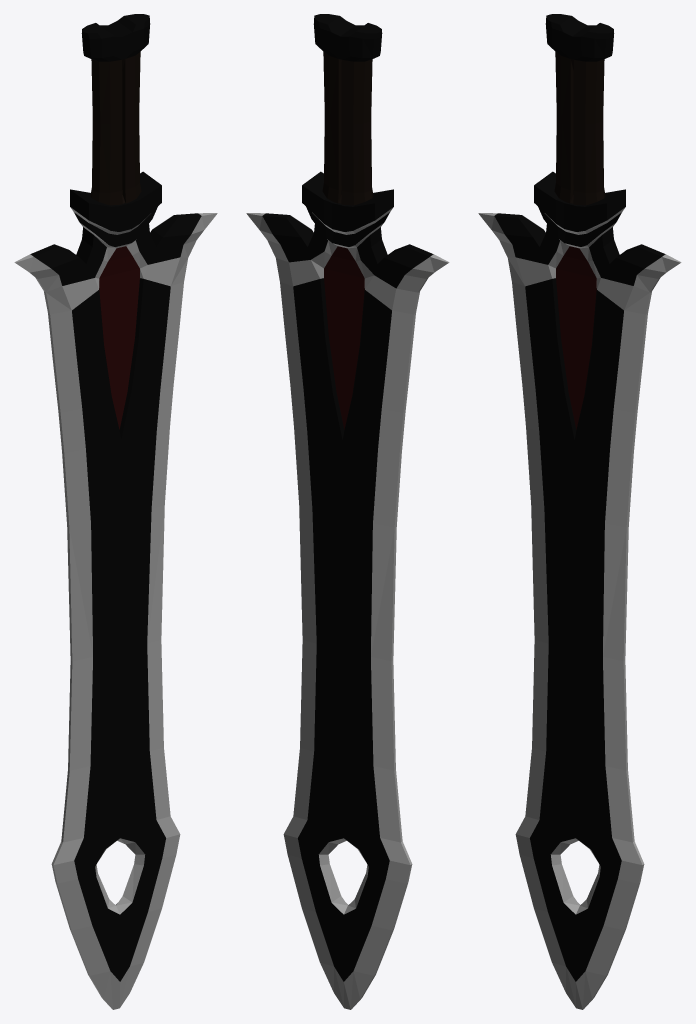
File: LeafSword.obj
3 renders of one model, left to right at view 1: azimuth 30°, elevation 25°; view 2: azimuth 150°, elevation 25°; view 3: azimuth 330°, elevation 25°, orthographic.
Parts seen in each view (by area): view 1: Cube_Cube.001; view 2: Cube_Cube.001; view 3: Cube_Cube.001.
Boxes of the visible parts, bbox=[...] form: Cube_Cube.001: bbox=[14, 14, 217, 1009]; Cube_Cube.001: bbox=[246, 14, 449, 1009]; Cube_Cube.001: bbox=[478, 14, 681, 1009].
Size of the model in its own units: 7 by 32.51 by 1.13.
